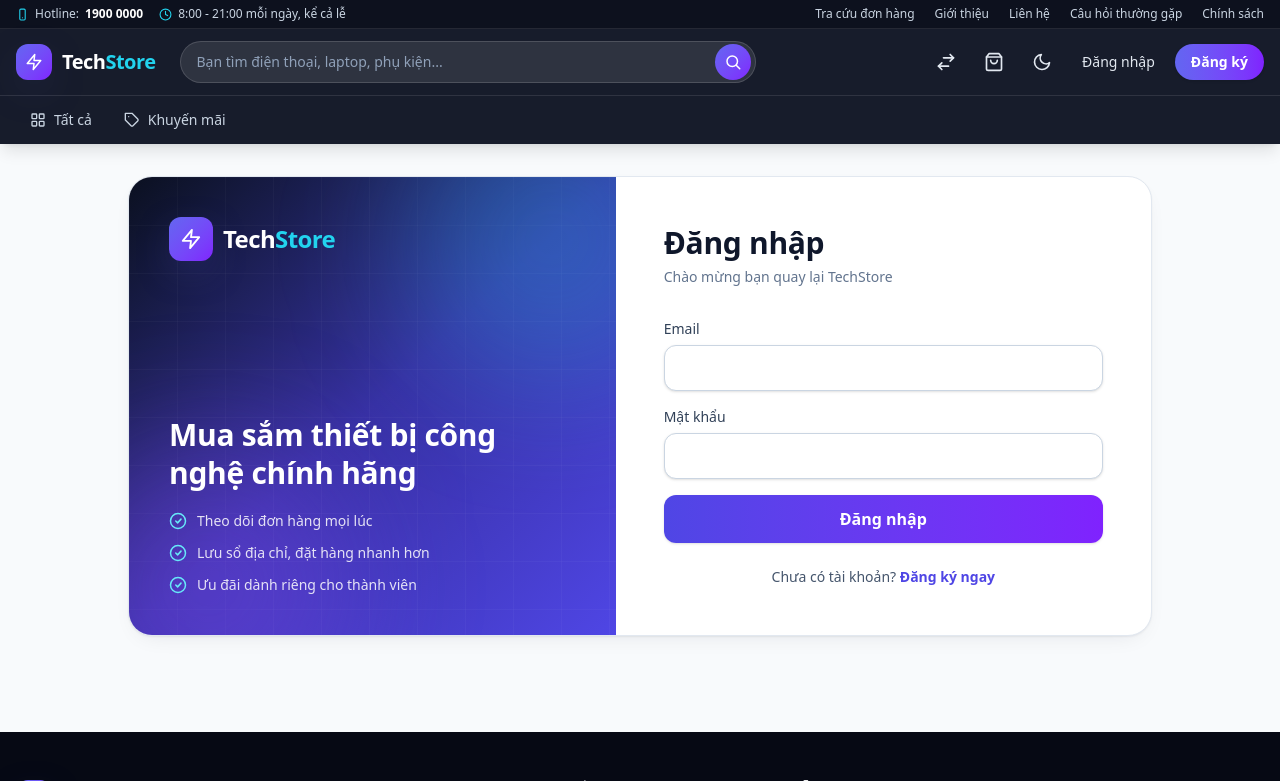
Test: Trang đăng nhập › báo lỗi khi email sai định dạng
Type "khong-phai-email" into the field labelled "Email" at (883, 368), box [664, 345, 1103, 391]
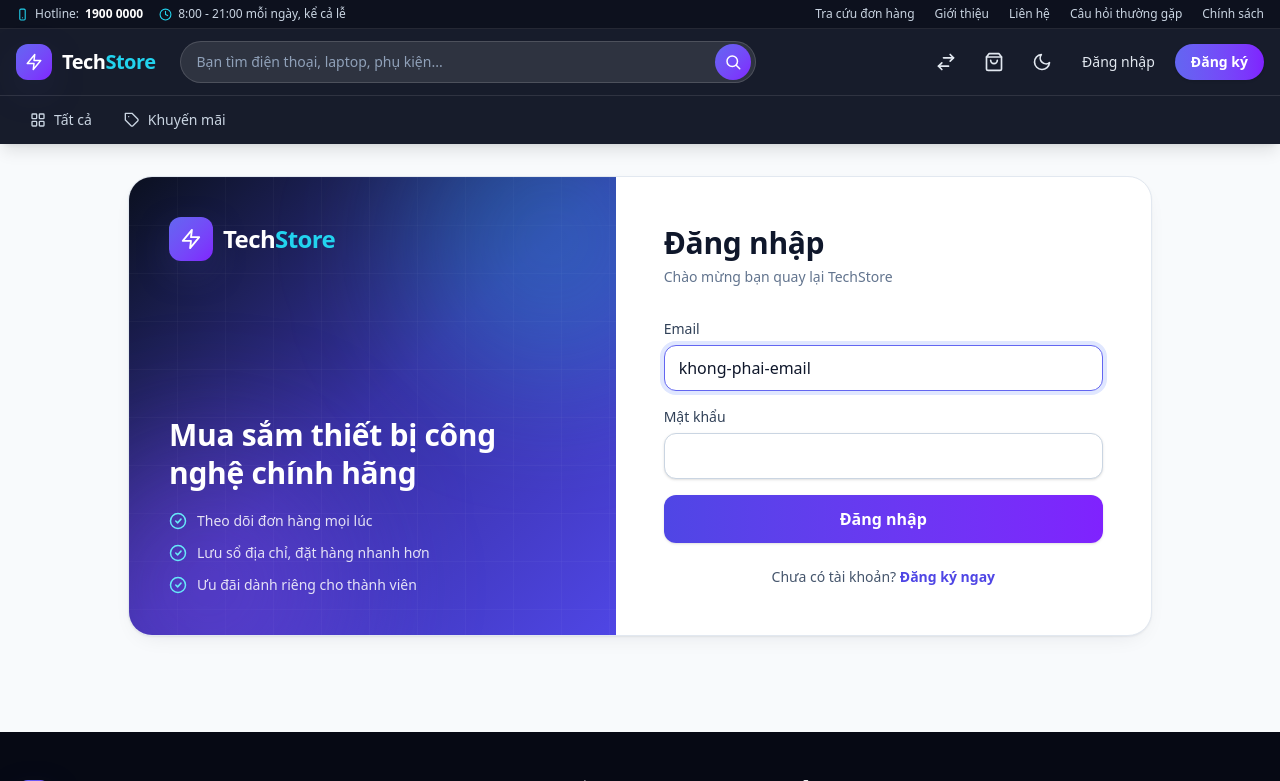
Type "abc" into the password field labelled "Mật khẩu" at (883, 456), box [664, 433, 1103, 479]
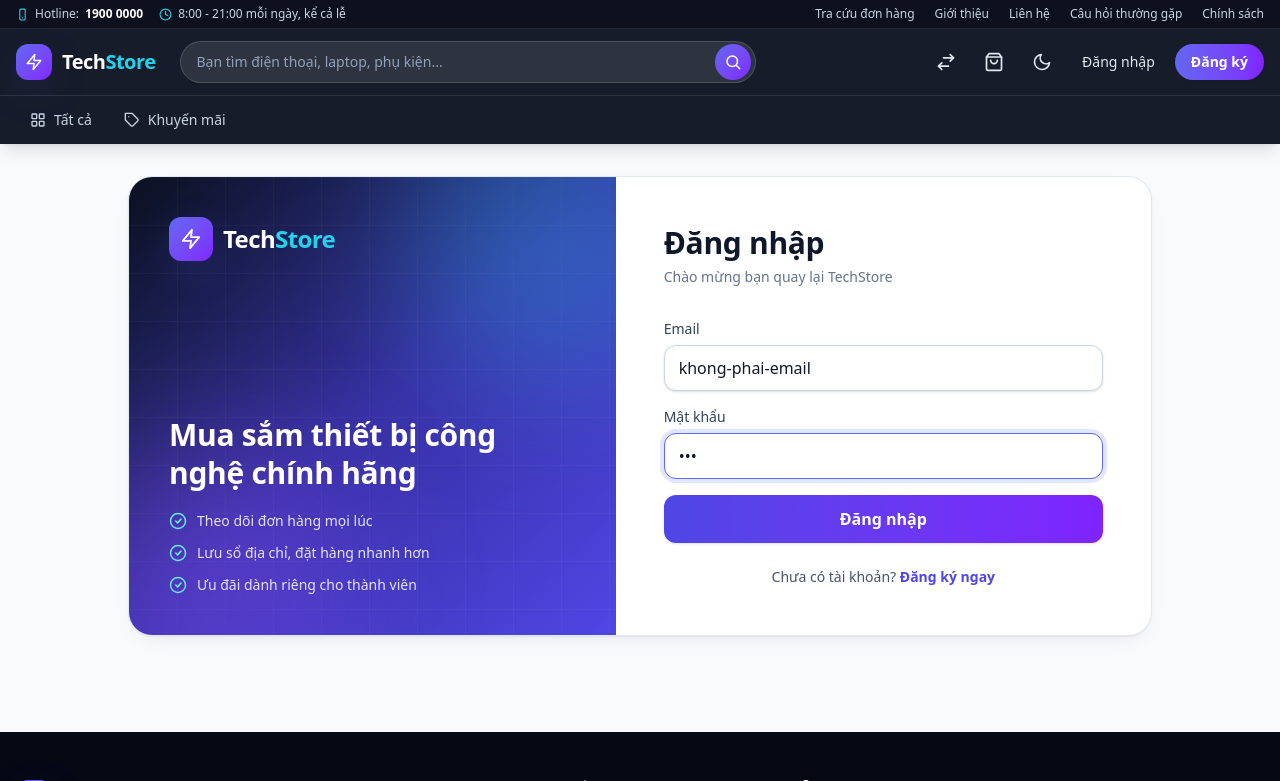
Click the button "Đăng nhập" at (883, 519), box [664, 495, 1103, 543]
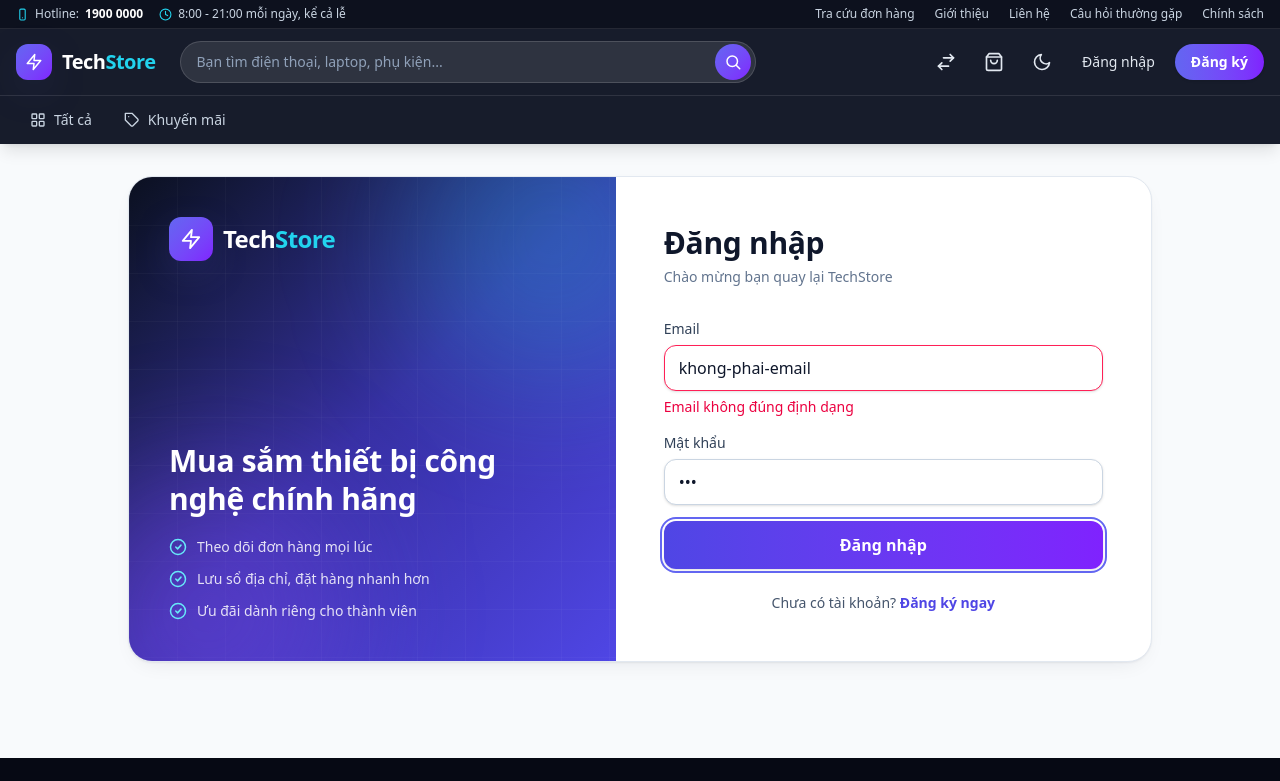
Expected: the text "Email không đúng định dạng" is shown, [664, 397, 854, 416]
